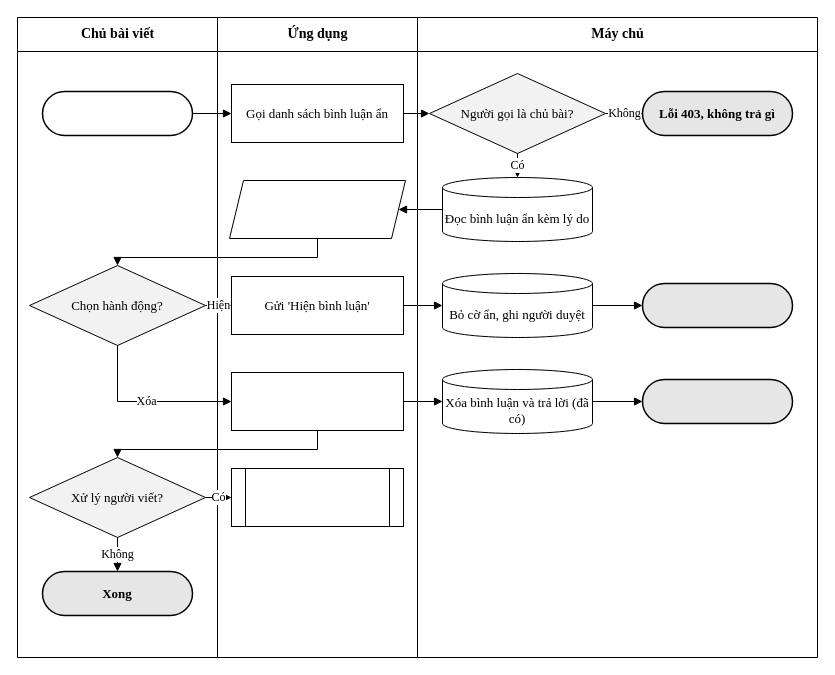
The diagram is 835 pixels wide and 675 high, and some of its shapes have lost their labels. The centre of each missing label's shape, as x and y in pixels:
"Danh sách: lý do, nút Hiện / Xóa" goes at point (317, 209).
"Gửi lệnh xóa" goes at point (317, 401).
"Luồng chặn (đã có) / hạn chế (B8)" goes at point (317, 497).
"Mọi người thấy; không thông báo bù" goes at point (717, 305).
"Mở 'Bình luận đã ẩn (n)'" goes at point (117, 113).
"Người viết không được báo" goes at point (717, 401).
